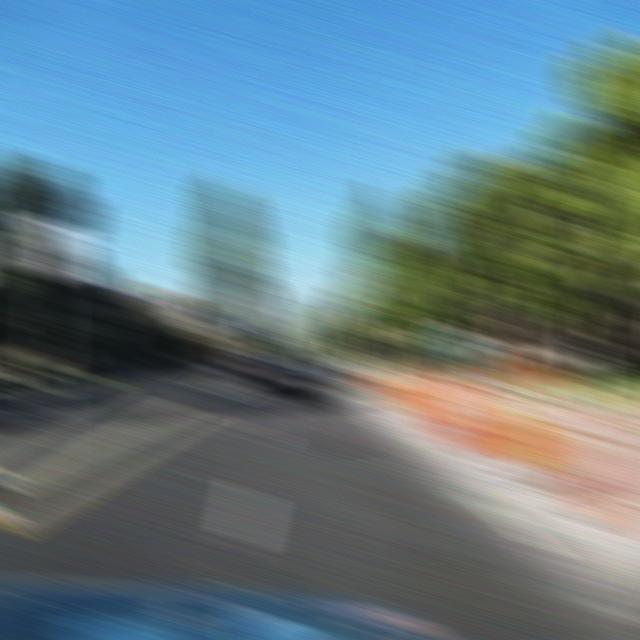speedLimit35: (22, 216, 78, 279)
